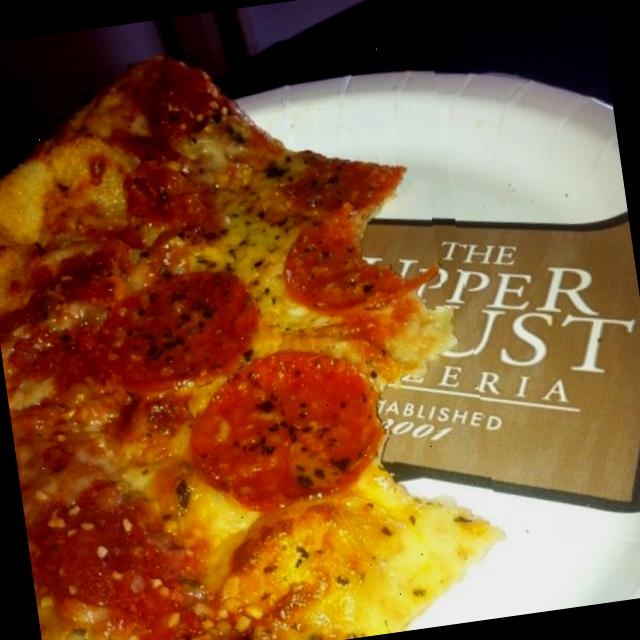pepperoni: (185, 334, 398, 518), (264, 180, 444, 332), (95, 253, 268, 407), (274, 128, 402, 223)
pizza: (0, 58, 500, 640)
